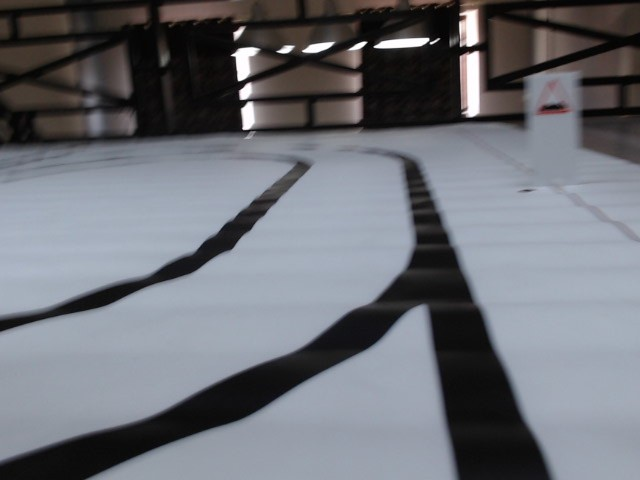Nerov: (536, 80, 574, 116)
